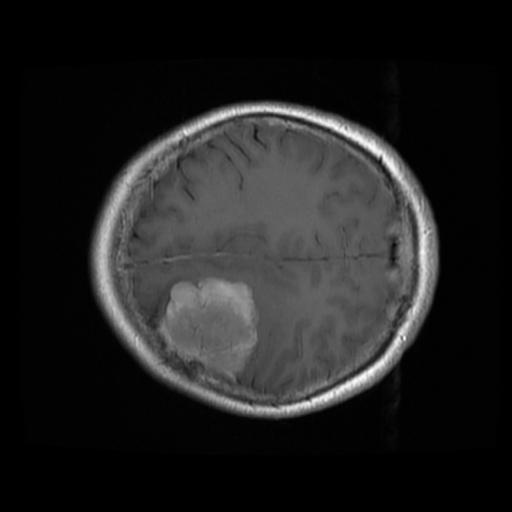meningioma: (157, 278, 255, 379)
